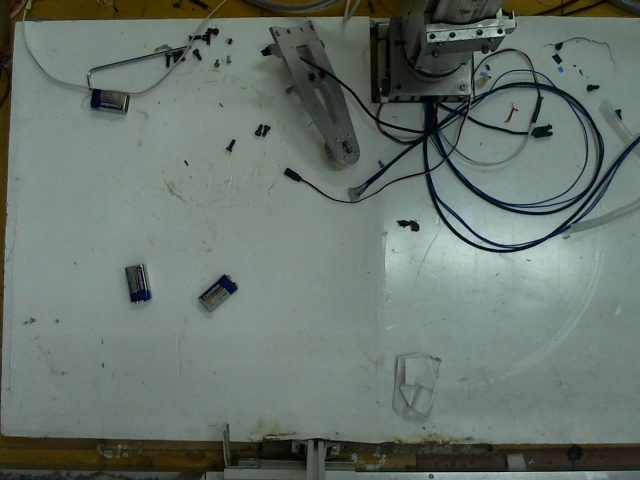battery: (196, 271, 237, 315), (83, 83, 133, 116), (119, 262, 153, 302)
